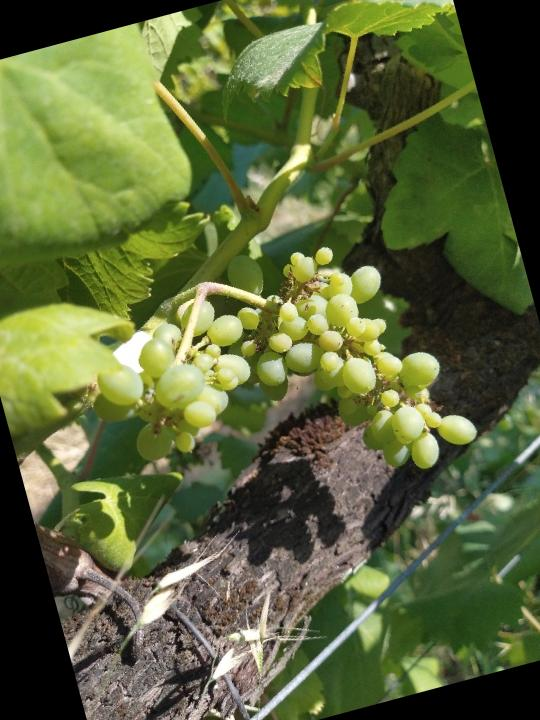grape: (60, 204, 489, 553)
